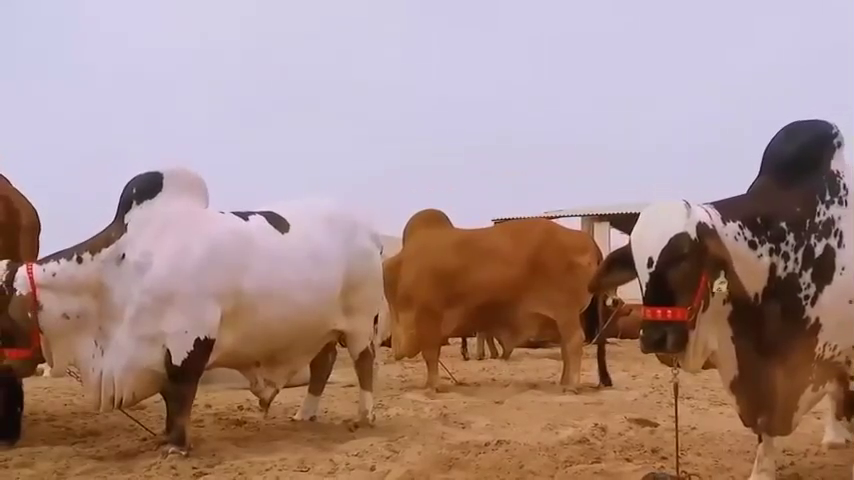bo: (2, 158, 390, 470), (580, 106, 854, 480), (366, 189, 617, 392)
